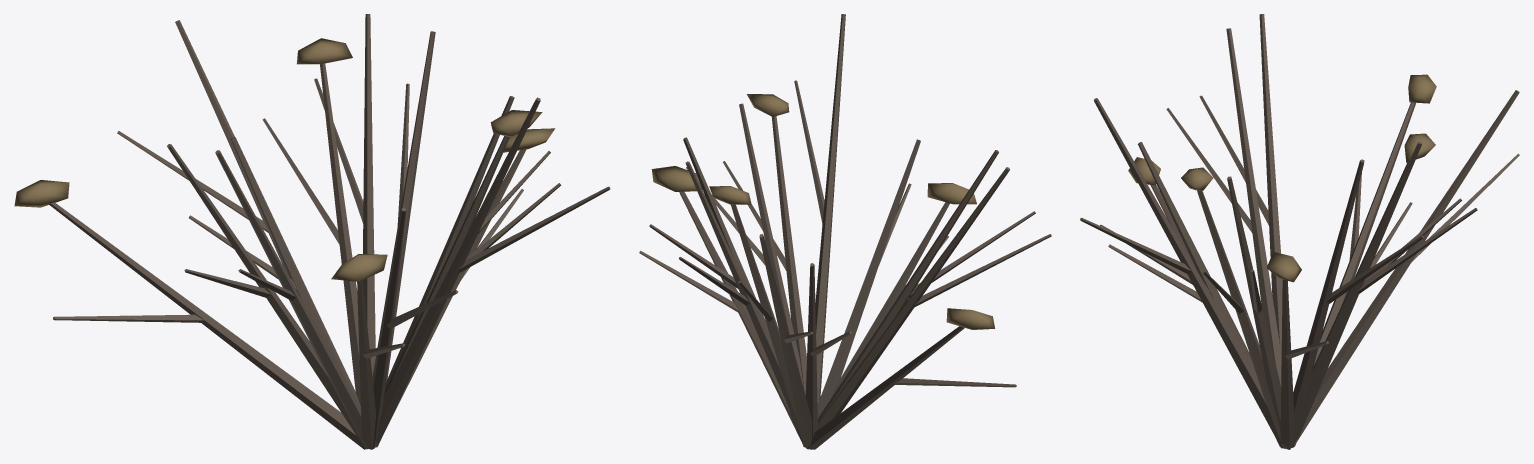
Rendered from plant_bush_1.glb.
3 views of the same model, side by side, from view 1: azimuth 30°, elevation 25°; view 2: azimuth 150°, elevation 25°; view 3: azimuth 270°, elevation 25° (orthographic). The views are drawn at different scales.
Parts seen in each view (by area): view 1: cyl.012, cyl.022, cyl.016, cyl.006, cyl.014, cyl.004, cyl.010, cyl.002, cyl.020, cyl.018, cyl.026, cyl.024 (+15 smaller); view 2: cyl.022, cyl.014, cyl.020, cyl.016, cyl.024, cyl.004, cyl.008, cyl.012, cyl.026, cyl, cyl.006, cyl.018 (+14 smaller); view 3: cyl.022, cyl.008, cyl.016, cyl.004, cyl.002, cyl.014, cyl.024, cyl.012, cyl.026, cyl.020, cyl, cyl.005 (+11 smaller).
Part boxes in pixels (box(x1,y1,x2,y2)): cyl.012: box(49, 202, 364, 449); cyl.022: box(368, 97, 540, 448); cyl.016: box(215, 150, 368, 449); cyl.006: box(320, 63, 360, 406); cyl.014: box(167, 144, 365, 449); cyl.004: box(363, 14, 375, 376); cyl.010: box(231, 137, 360, 407); cyl.002: box(377, 31, 435, 381); cyl.020: box(363, 207, 406, 448); cyl.018: box(357, 280, 375, 449); cyl.026: box(375, 96, 514, 446); cyl.024: box(373, 136, 509, 447); cyl.022: box(815, 14, 845, 403); cyl.014: box(811, 167, 1009, 448); cyl.020: box(817, 139, 920, 418); cyl.016: box(818, 150, 998, 423); cyl.024: box(772, 116, 806, 395); cyl.004: box(685, 161, 806, 448); cyl.008: box(759, 234, 811, 449); cyl.012: box(806, 326, 964, 449); cyl.026: box(739, 103, 803, 387); cyl: box(679, 191, 800, 439); cyl.006: box(731, 204, 807, 447); cyl.018: box(829, 202, 949, 400); cyl.022: box(1094, 98, 1282, 448); cyl.008: box(1292, 90, 1519, 447); cyl.016: box(1226, 28, 1281, 386); cyl.004: box(1287, 141, 1422, 448); cyl.002: box(1284, 159, 1364, 447); cyl.014: box(1259, 14, 1282, 354); cyl.024: box(1197, 190, 1285, 448); cyl.012: box(1314, 102, 1415, 365); cyl.026: box(1227, 176, 1287, 448); cyl.020: box(1138, 142, 1279, 446); cyl: box(1280, 279, 1294, 449); cyl.005: box(1358, 208, 1477, 293).
Bounding box in the file's own units: 1.2 × 1 × 1.05.
